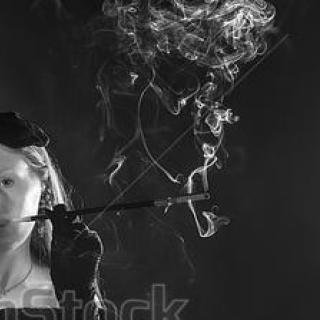smoke: (116, 4, 286, 237)
